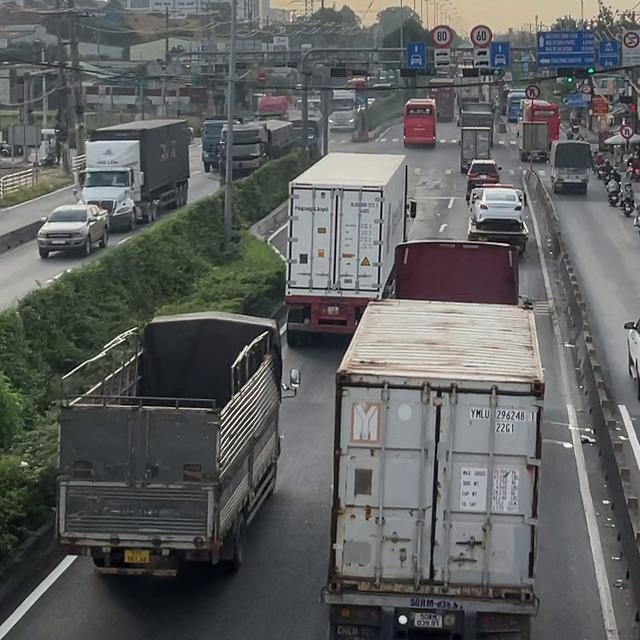bus: (524, 99, 560, 148), (506, 88, 530, 122)
car: (36, 203, 109, 258), (476, 188, 523, 230), (468, 158, 500, 188)
truck: (320, 240, 552, 640), (54, 308, 300, 580), (283, 151, 414, 346), (75, 117, 190, 229), (467, 186, 525, 256), (222, 120, 292, 178), (548, 139, 593, 194), (201, 116, 241, 172), (402, 97, 436, 147), (458, 100, 493, 148), (328, 89, 368, 130), (459, 126, 492, 173), (518, 121, 550, 162), (428, 77, 455, 121)
